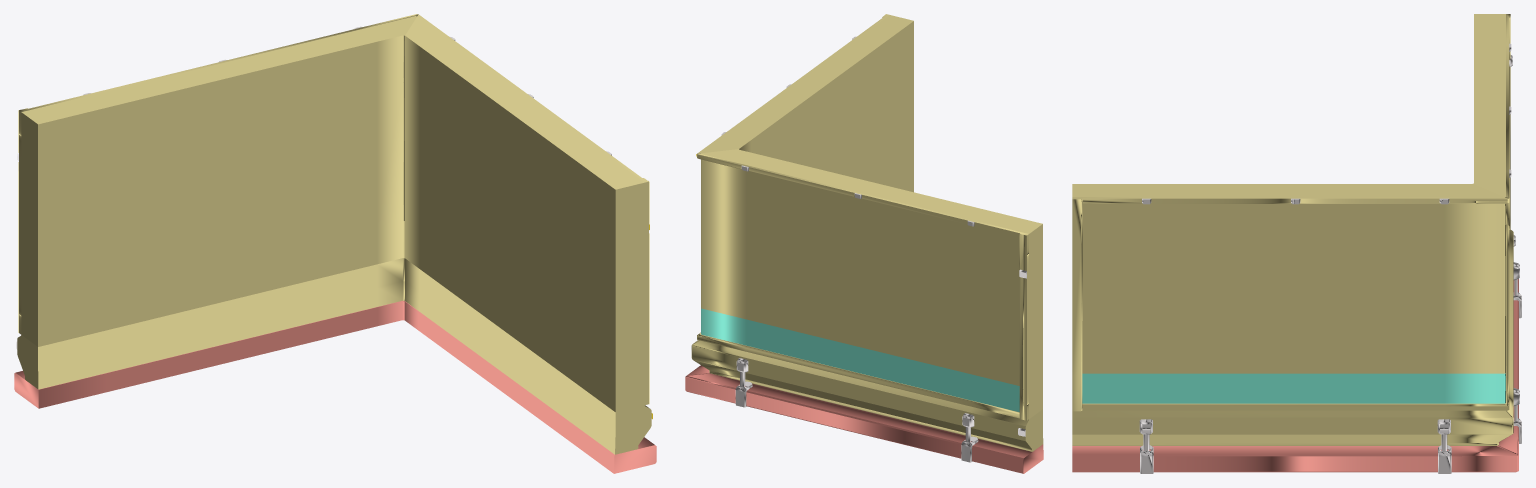
File: roomslg_b_wall_corner_out_06x06x04_a.glb
The picture shows the model from 3 angles, left to right: view 1: azimuth 30°, elevation 25°; view 2: azimuth 150°, elevation 25°; view 3: azimuth 270°, elevation 25°; orthographic projection. The views are drawn at different scales.
Size of the model in its own units: 6.04 by 4 by 6.04.
